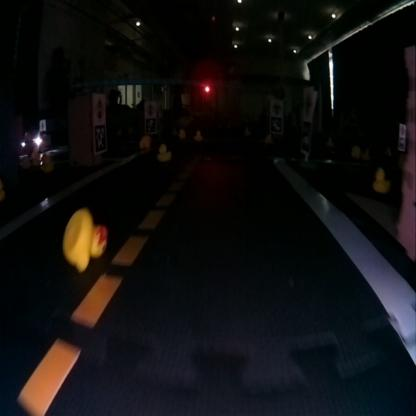Duckie: (62, 207, 107, 271), (372, 166, 390, 191), (157, 144, 171, 160), (42, 157, 53, 171), (140, 135, 150, 148), (350, 145, 360, 157), (193, 130, 202, 140), (21, 156, 29, 167), (361, 149, 370, 157), (265, 134, 271, 142), (178, 129, 184, 137), (244, 128, 250, 135)
Intersection sign: (304, 89, 314, 117), (270, 102, 282, 114)
QR code: (94, 123, 106, 152), (300, 121, 311, 152), (270, 117, 282, 132), (145, 118, 156, 132)
Signal sign: (94, 96, 104, 122), (145, 102, 155, 116)
Traffic light: (203, 84, 210, 93)
